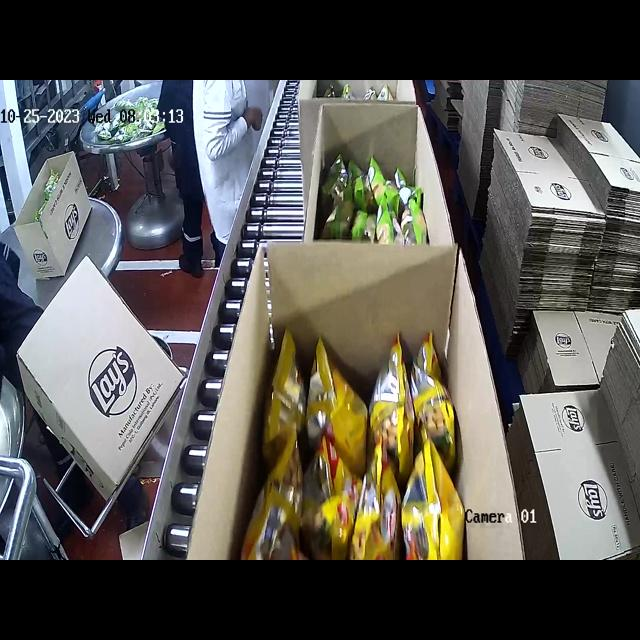salted: (263, 306, 438, 560)
yogurt: (331, 155, 419, 238)
